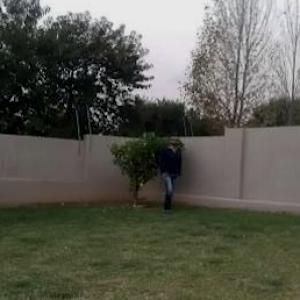follow: (158, 130, 179, 215)
